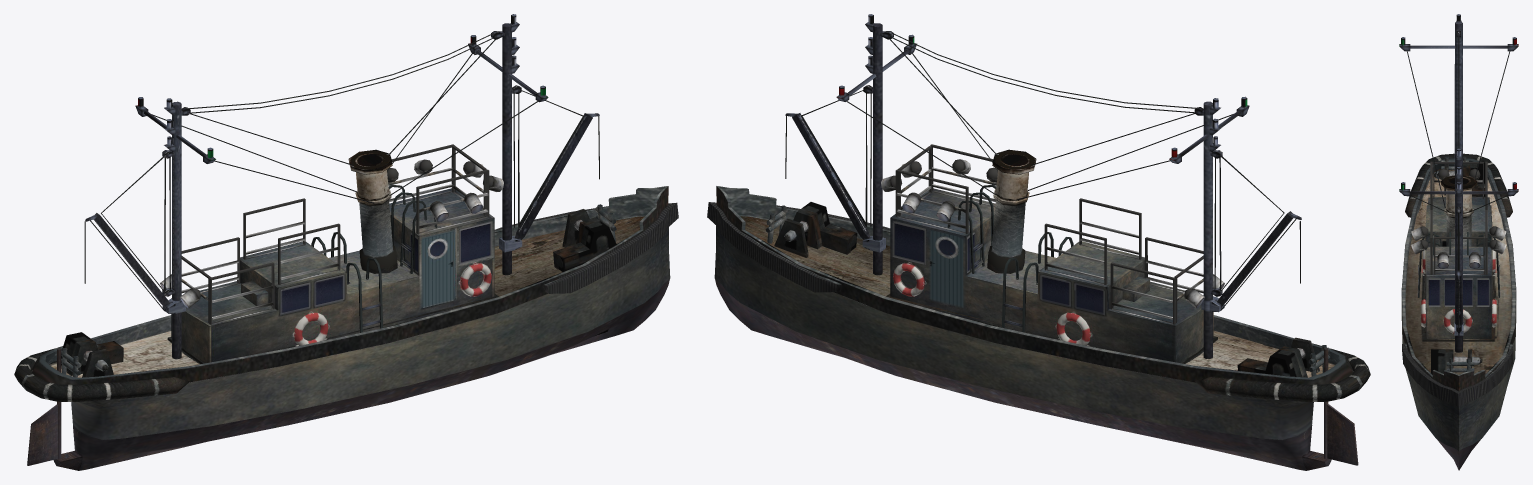
Rendered from Boat.fbx.
3 renders of one model, left to right at view 1: azimuth 30°, elevation 25°; view 2: azimuth 150°, elevation 25°; view 3: azimuth 270°, elevation 25°, orthographic. The views are drawn at different scales.
Parts seen in each view (by area): view 1: Object_39.001; view 2: Object_39.001; view 3: Object_39.001.
Boxes of the visible parts, x1,y1,x2,y2 form: Object_39.001: (14,14,678,470); Object_39.001: (707,14,1370,470); Object_39.001: (1399,14,1518,470).
Bounding box in the file's own units: 1317 × 676 × 260.
1 material, 1 textured.
